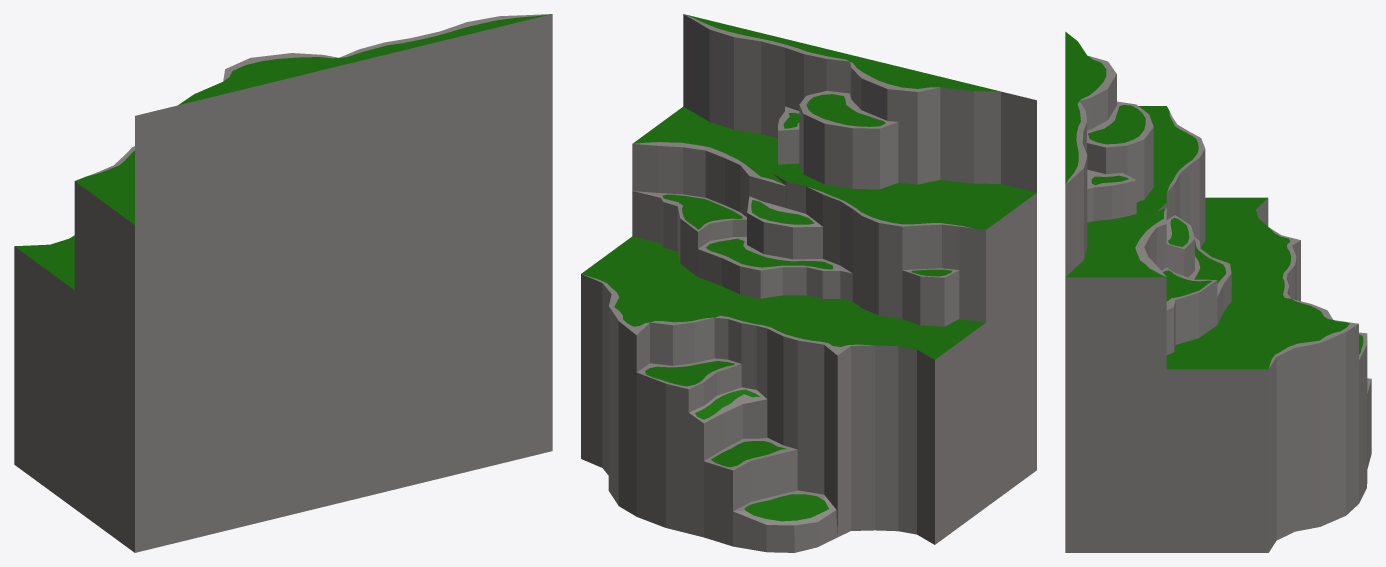
File: MountainStair.fbx
3 renders of one model, left to right at view 1: azimuth 30°, elevation 25°; view 2: azimuth 150°, elevation 25°; view 3: azimuth 270°, elevation 25°, orthographic. The views are drawn at different scales.
Parts seen in each view (by area): view 1: Plane; view 2: Plane; view 3: Plane.
Boxes of the visible parts, x1,y1,x2,y2 form: Plane: (14, 14, 552, 552); Plane: (581, 14, 1036, 552); Plane: (1065, 31, 1371, 552).
Size of the model in its own units: 100 by 100 by 75.48.
